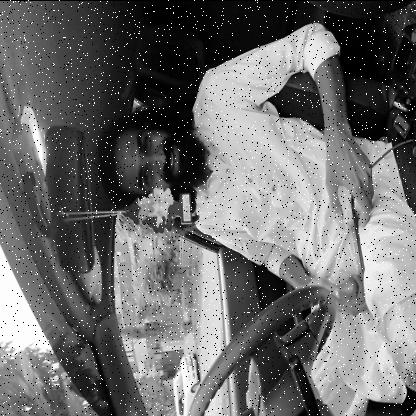no_seatbelt: (103, 113, 340, 264)
